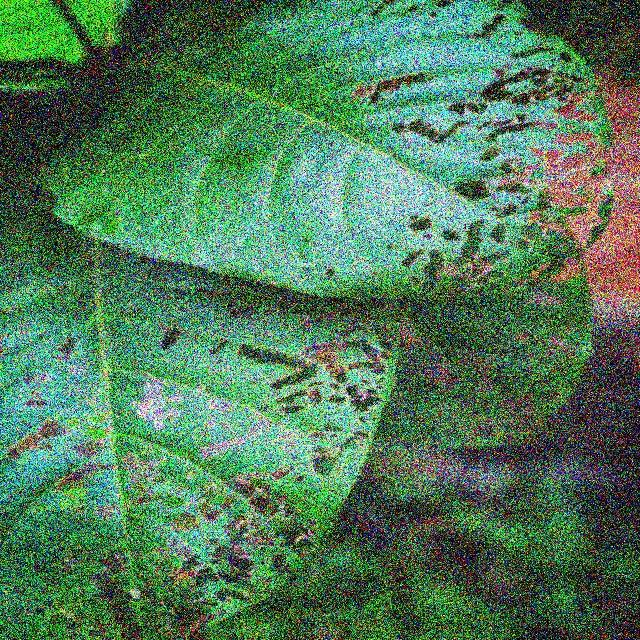shot_hole: (0, 297, 384, 640), (337, 0, 614, 449)
